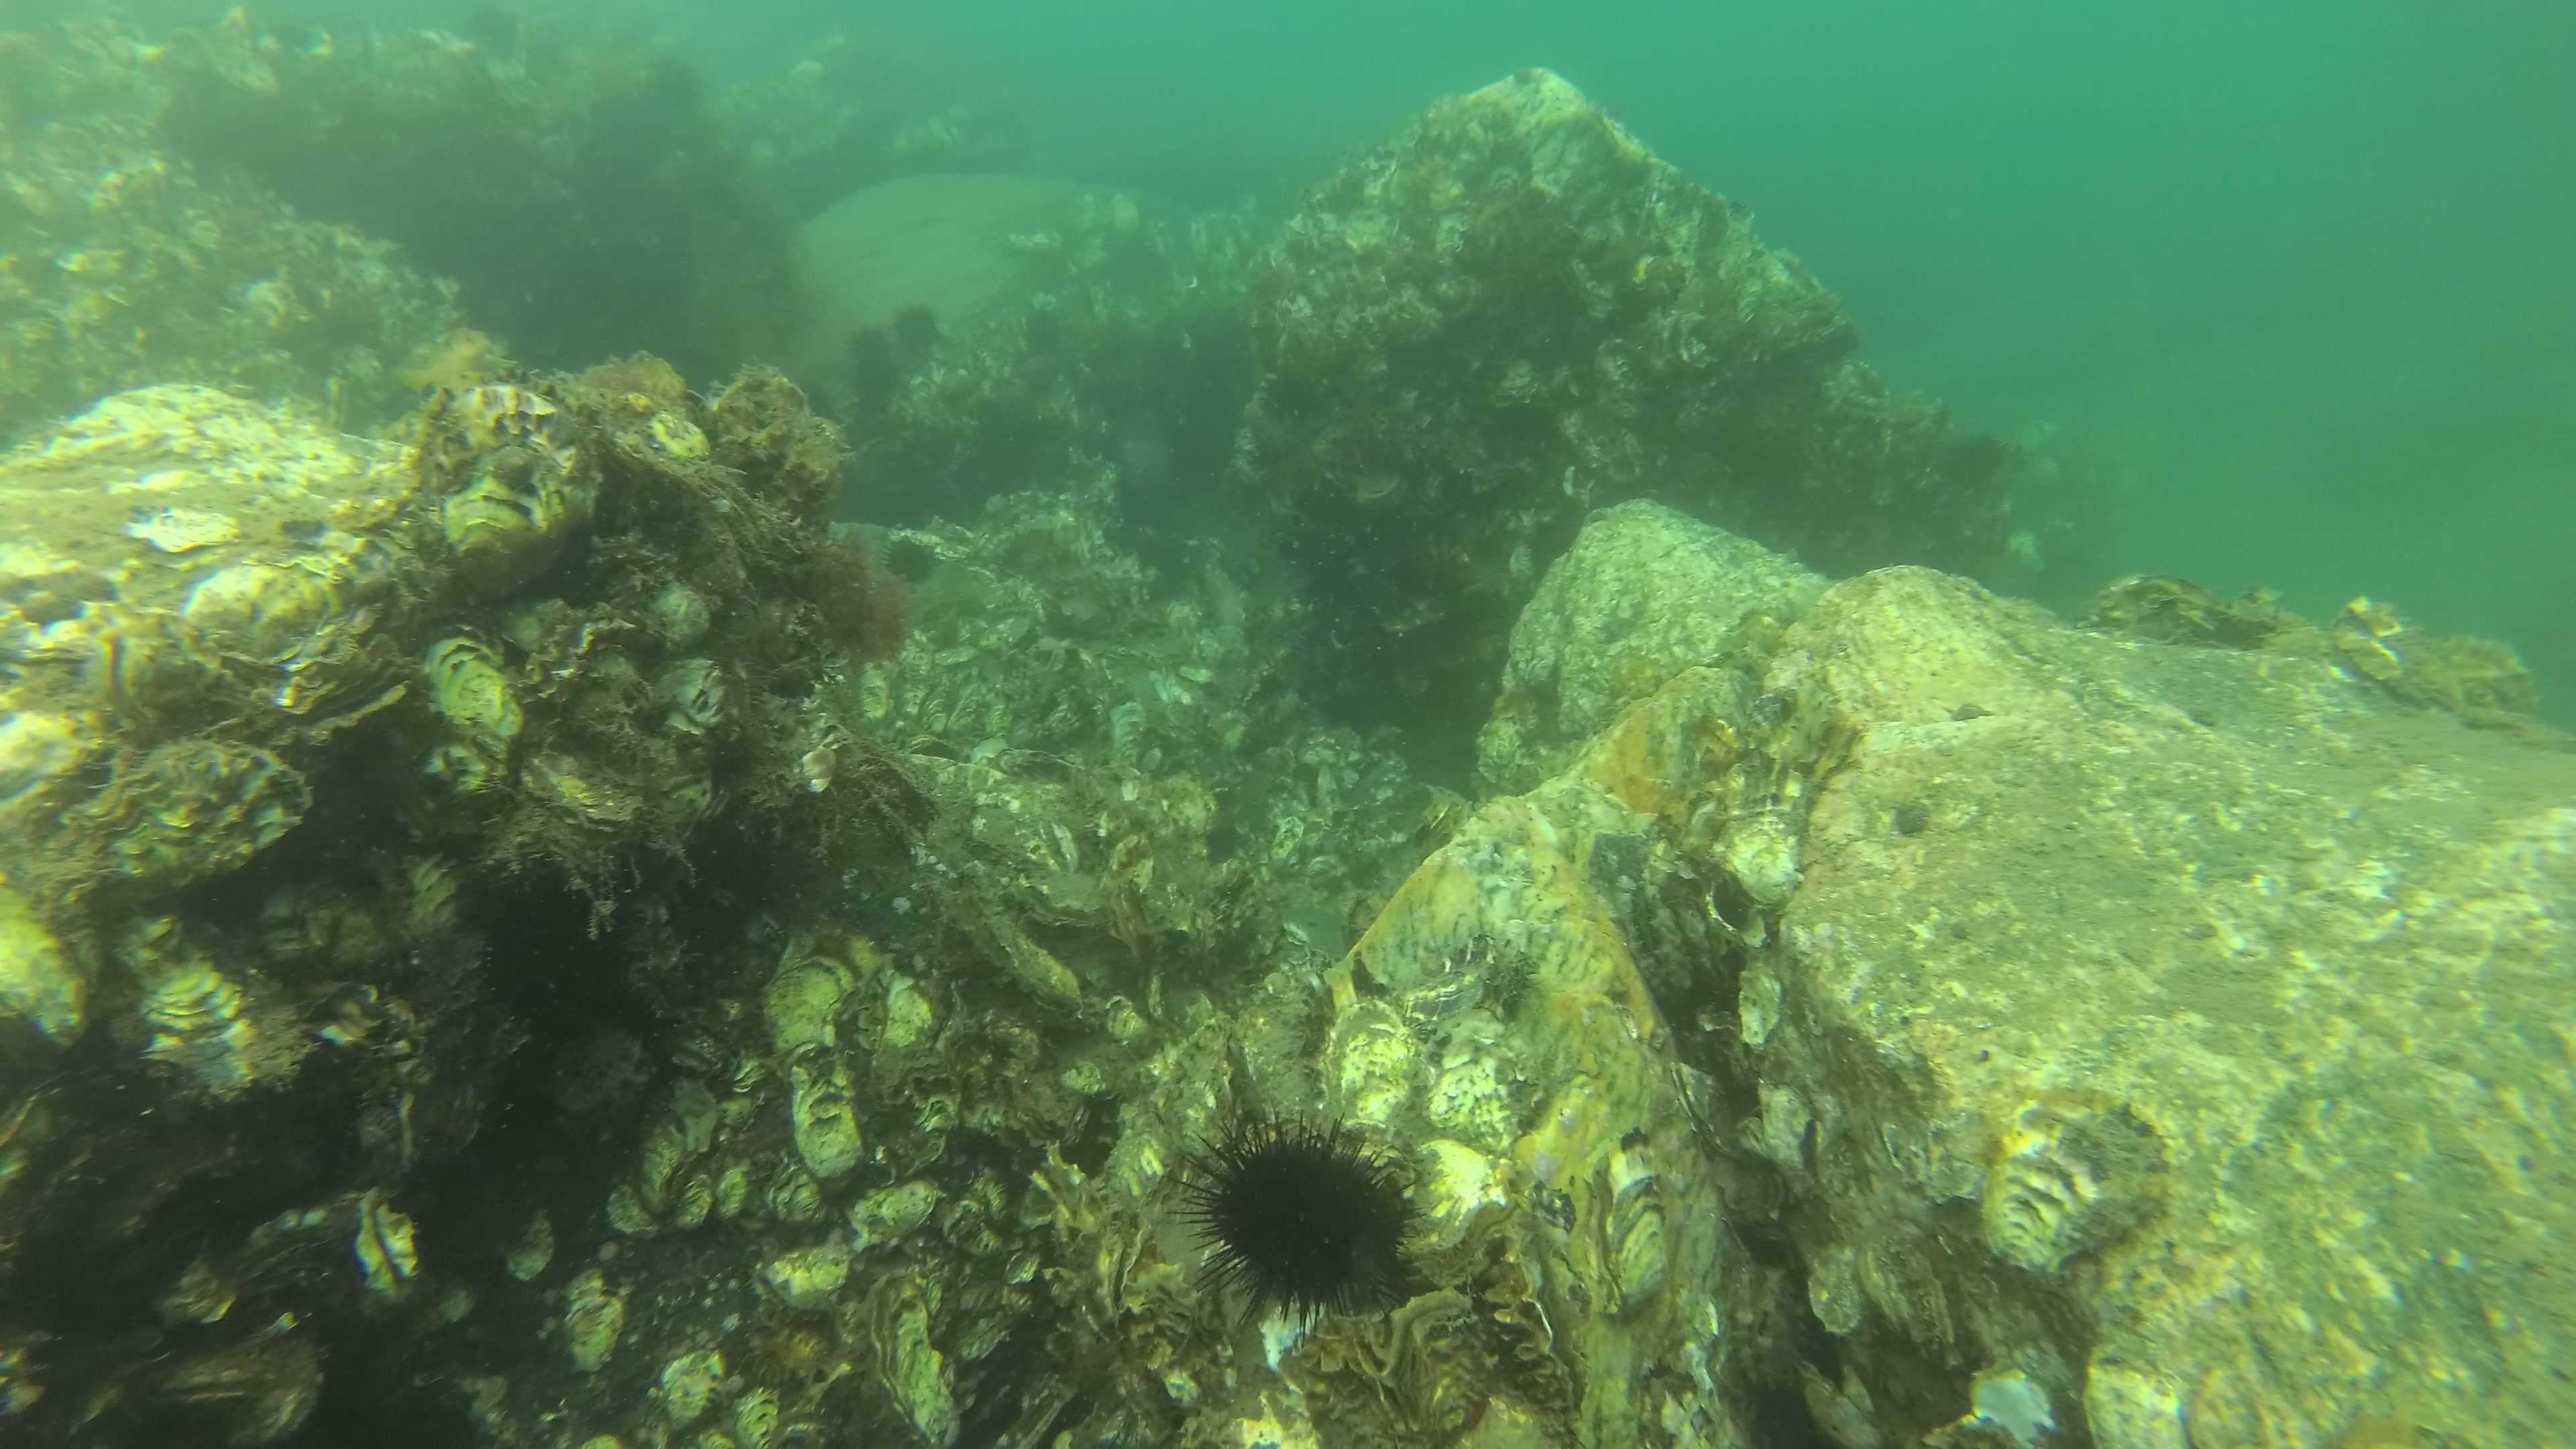echinus: (1185, 1097, 1417, 1343), (881, 524, 938, 589), (844, 322, 899, 377), (888, 303, 945, 354)
